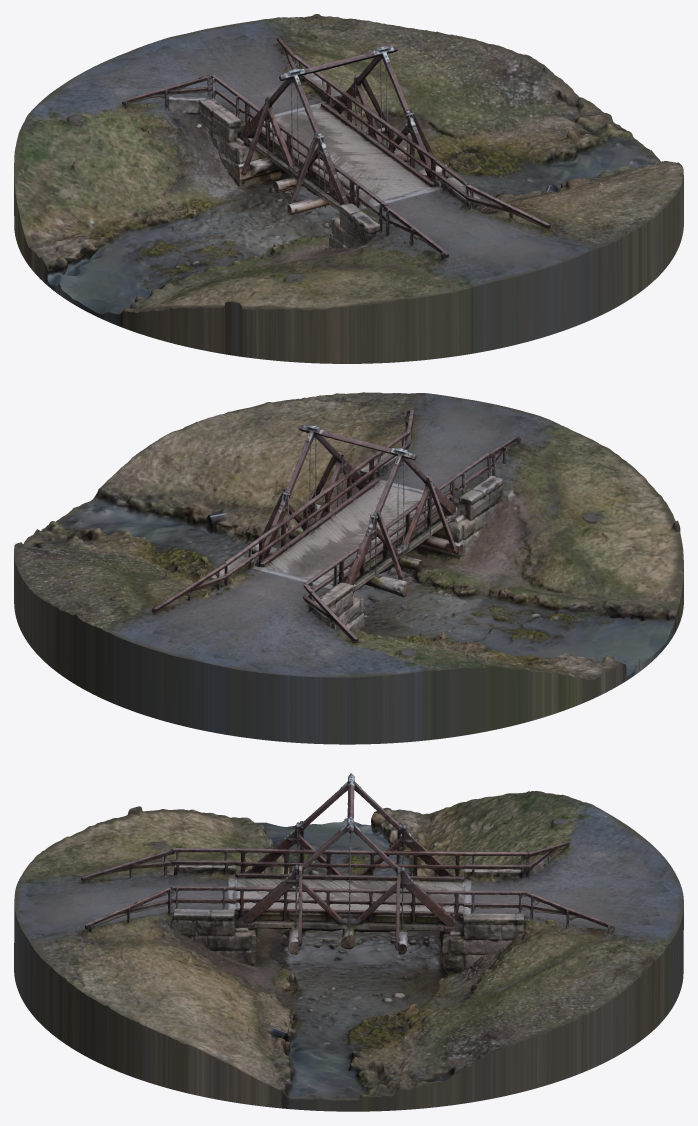
The model's file is jaaninoja_bridge_in_turku_kurala_finland.glb.
3 renders of one model, top to bottom at view 1: azimuth 30°, elevation 25°; view 2: azimuth 150°, elevation 25°; view 3: azimuth 270°, elevation 25°, orthographic.
Visible parts, largest first — view 1: Object_2; view 2: Object_2; view 3: Object_2.
Boxes of the visible parts, bbox=[...] form: Object_2: bbox=[14, 14, 683, 363]; Object_2: bbox=[14, 392, 683, 744]; Object_2: bbox=[14, 773, 683, 1111].
Size of the model in its own units: 10.02 by 2.8 by 10.02.
Materials: 1 (1 with a texture image).
